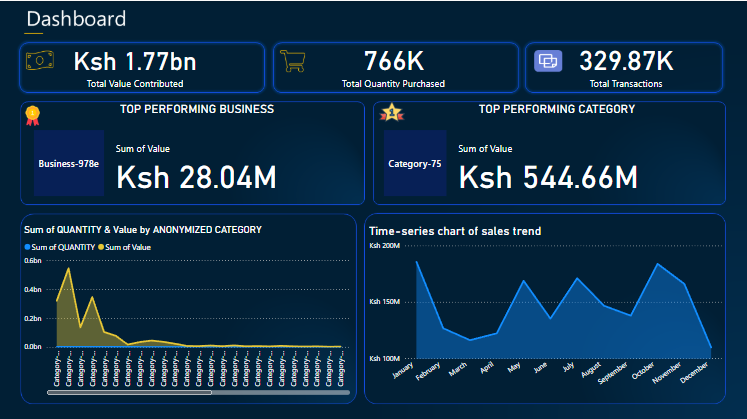

Layout of this report page (visuals, bound fields, positions):
{"tool":"powerbi","page":{"name":"DASHBOARD","canvas":[1280,720],"ordinal":0},"visuals":[{"type":"areaChart","title":"Sum of QUANTITY & Value by ANONYMIZED CATEGORY","fields":{"Category":["case_study_data_2025-01-16T06_4.ANONYMIZED CATEGORY"],"Y":["Sum(case_study_data_2025-01-16T06_4.QUANTITY)","Sum(case_study_data_2025-01-16T06_4.Value)"]},"box":[37.6,381.6,568.1,297.8],"z":0},{"type":"cardVisual","title":"TOP PERFORMING CATEGORY","fields":{"Rows":["case_study_data_2025-01-16T06_4.ANONYMIZED CATEGORY"],"Data":["Sum(case_study_data_2025-01-16T06_4.Value)"]},"box":[653.7,172.8,602.4,186.5],"z":1000},{"type":"stackedAreaChart","title":"Time-series chart of sales trend","fields":{"Category":["case_study_data_2025-01-16T06_4.DATE.Variation.Date Hierarchy.Month"],"Y":["Sum(case_study_data_2025-01-16T06_4.Value)"]},"box":[628,381.6,614.3,297.8],"z":2000},{"type":"card","fields":{"Values":["Sum(case_study_data_2025-01-16T06_4.Value)"]},"box":[54.8,66.7,355.9,85.6],"z":3000},{"type":"card","fields":{"Values":["Sum(case_study_data_2025-01-16T06_4.QUANTITY)"]},"box":[479.1,66.7,391.9,85.6],"z":4000},{"type":"card","fields":{"Values":["CountNonNull(case_study_data_2025-01-16T06_4.ANONYMIZED BUSINESS)"]},"box":[903.5,66.7,338.8,85.6],"z":5000},{"type":"cardVisual","title":"TOP PERFORMING BUSINESS","fields":{"Rows":["case_study_data_2025-01-16T06_4.ANONYMIZED BUSINESS"],"Data":["Sum(case_study_data_2025-01-16T06_4.Value)"]},"box":[54.8,172.8,568.1,186.5],"z":6000}]}

Visuals, with their boxes in screenshot pixels (x1, y1, x2, y2), scaled from the page's 1280x720 canvas onto the 747x419 screenshot:
"Sum of QUANTITY & Value by ANONYMIZED CATEGORY" areaChart: [22, 222, 353, 395]
"TOP PERFORMING CATEGORY" cardVisual: [381, 101, 733, 209]
"Time-series chart of sales trend" stackedAreaChart: [366, 222, 725, 395]
card - Sum(case_study_data_2025-01-16T06_4.Value): [32, 39, 240, 89]
card - Sum(case_study_data_2025-01-16T06_4.QUANTITY): [280, 39, 508, 89]
card - CountNonNull(case_study_data_2025-01-16T06_4.ANONYMIZED BUSINESS): [527, 39, 725, 89]
"TOP PERFORMING BUSINESS" cardVisual: [32, 101, 364, 209]
